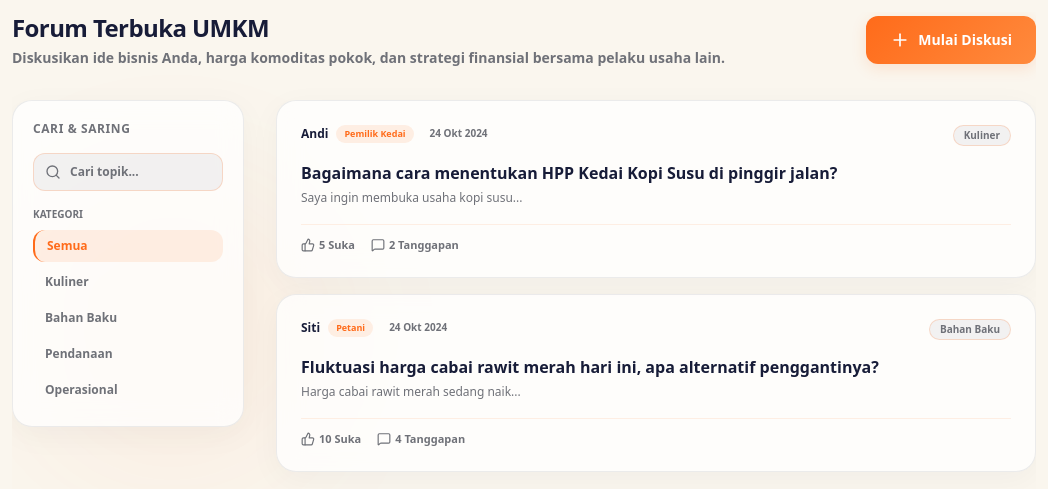
Scenario: ForumTerbuka Component › filters threads based on category click
Expected: the heading "Bagaimana cara menentukan HPP Kedai Kopi Susu di pinggir jalan?" is shown, [301,162,837,184]
Click category button "Bahan Baku" specifically
Click the button "Bahan Baku": [128, 318] box [33,302,223,334]
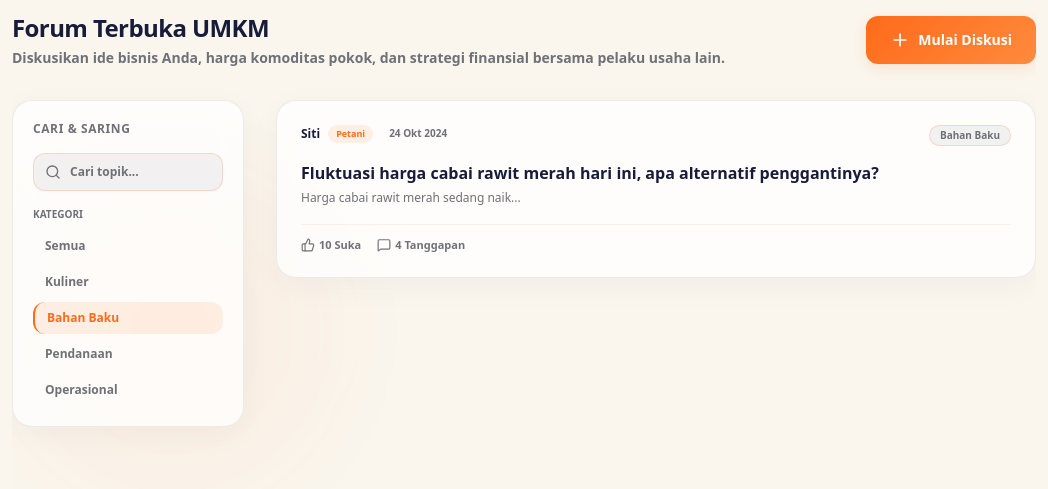
Expected: the heading "Fluktuasi harga cabai rawit merah hari ini, apa alternatif penggantinya?" is shown, [301,162,879,184]
Expected: the heading "Bagaimana cara menentukan HPP Kedai Kopi Susu di pinggir jalan?" is gone
